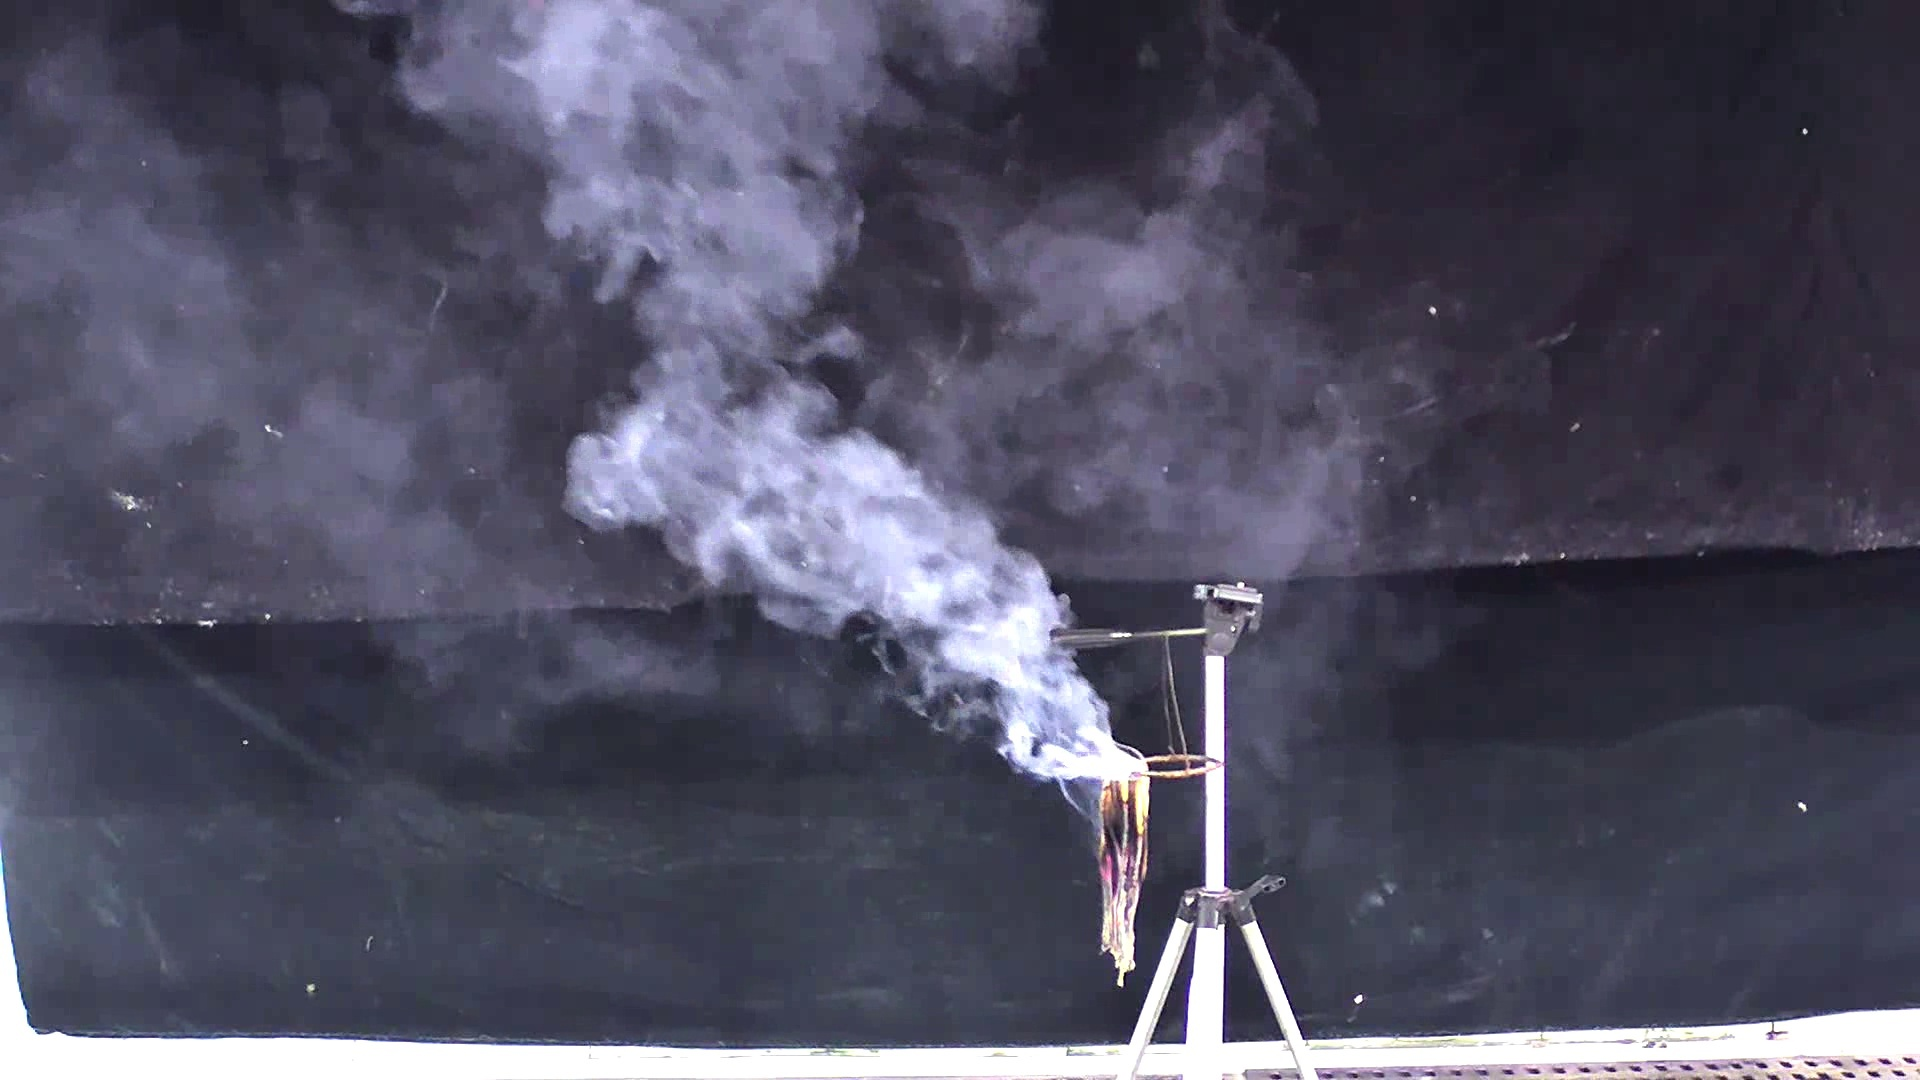smoke: (406, 11, 1179, 799)
